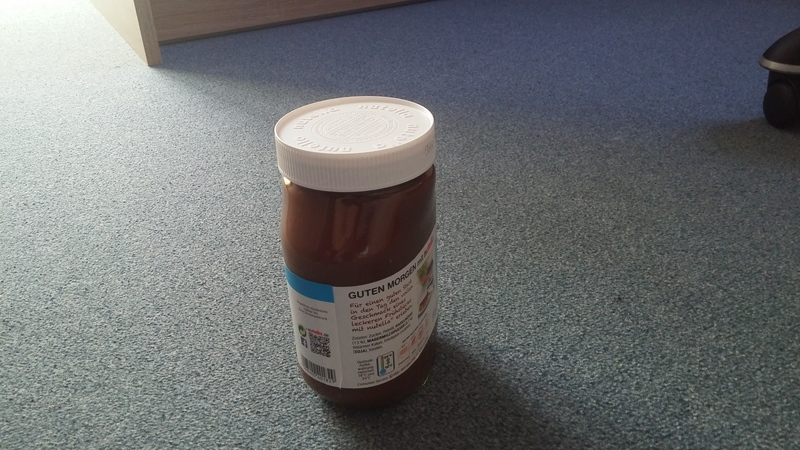nutella: (274, 95, 440, 407)
